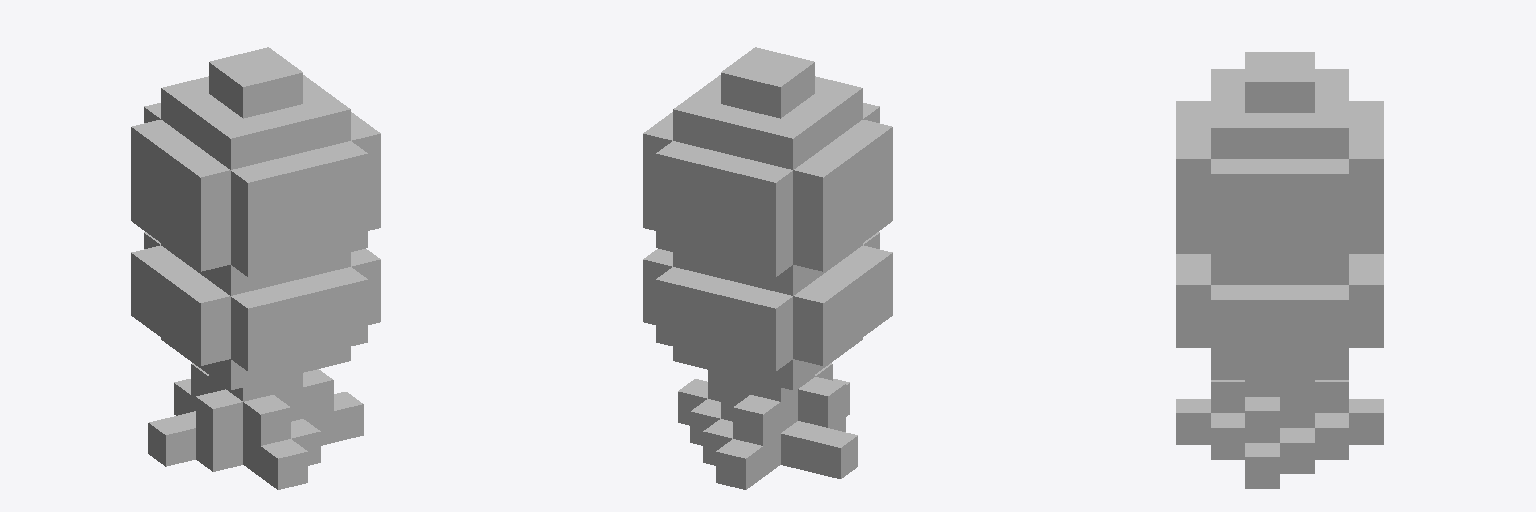
The model's file is Bush_Tall_Snow.obj.
3 renders of one model, left to right at view 1: azimuth 30°, elevation 25°; view 2: azimuth 150°, elevation 25°; view 3: azimuth 270°, elevation 25°, orthographic.
Visible parts, largest first — view 1: Bush_Tall_Snow; view 2: Bush_Tall_Snow; view 3: Bush_Tall_Snow.
Boxes of the visible parts, x1=… form: Bush_Tall_Snow: x1=131, y1=47, x2=380, y2=489; Bush_Tall_Snow: x1=643, y1=47, x2=892, y2=489; Bush_Tall_Snow: x1=1176, y1=52, x2=1383, y2=488.
Size of the model in its own units: 6 by 12 by 6.